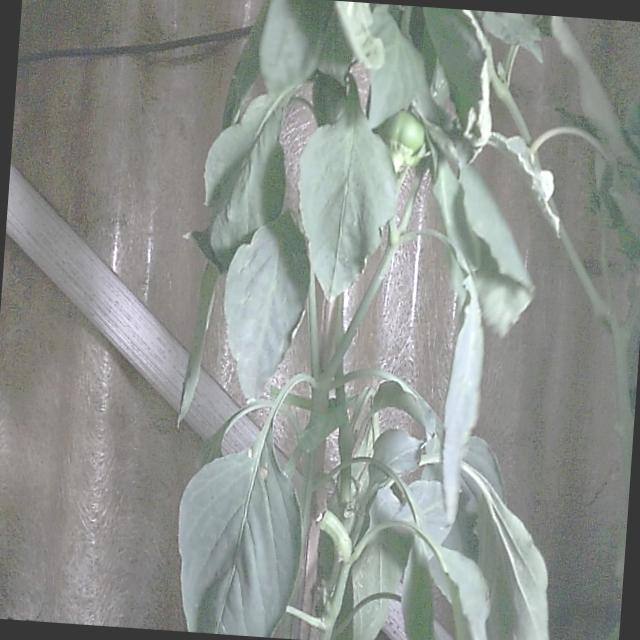Leaf: (179, 429, 301, 636), (299, 80, 396, 300), (225, 213, 309, 398), (463, 463, 548, 639), (205, 95, 289, 266), (442, 276, 483, 522), (424, 7, 491, 148), (490, 132, 561, 236), (369, 6, 428, 128), (178, 263, 220, 425), (259, 0, 332, 93), (336, 1, 384, 70)
